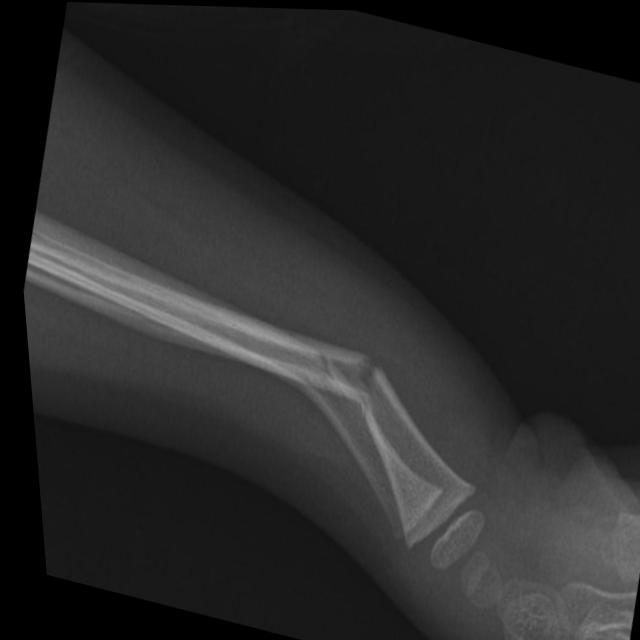fracture: (294, 336, 402, 425)
